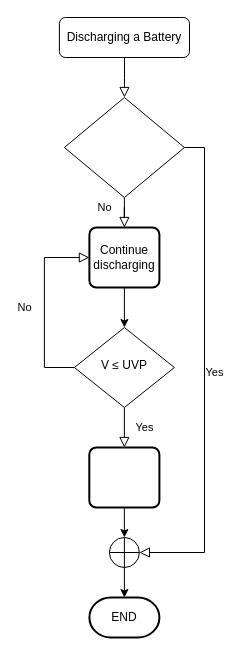
Some shapes in this 241 by 656 pixel diagram are drawn without their labels. Each missing label, with the centre of its shape:
"Does BMS limit discharging voltage?" goes at [123,147].
"Stop discharging" goes at [124,477].
